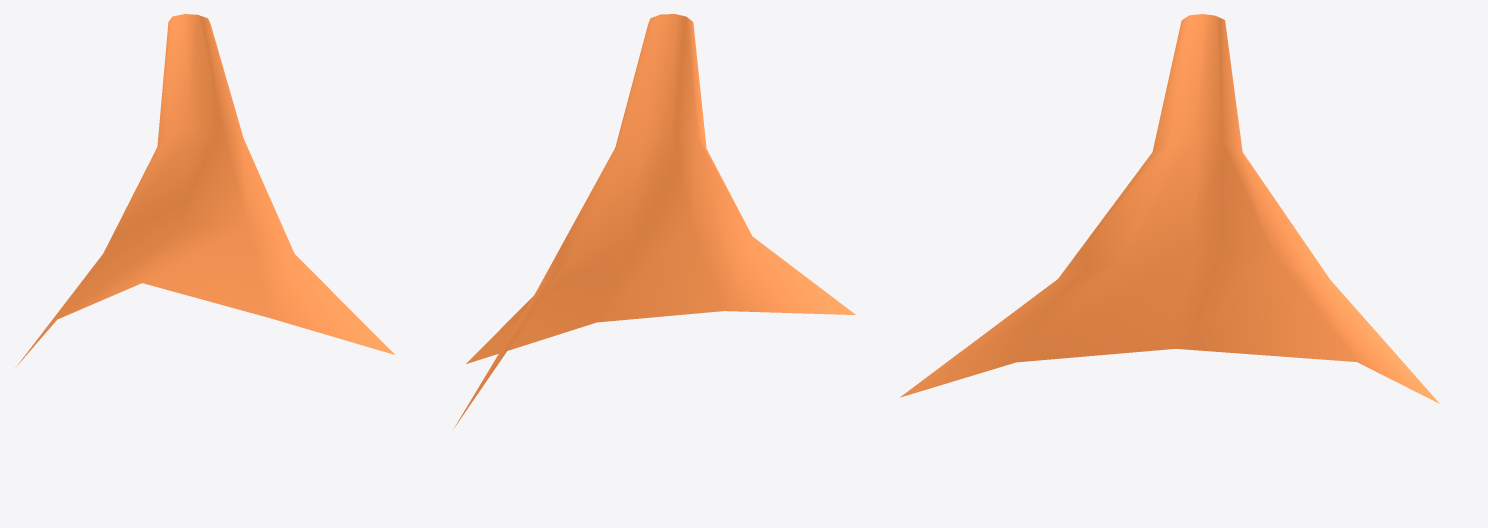
The model's file is prop-volcano-05.glb.
3 views of the same model, side by side, from view 1: azimuth 30°, elevation 25°; view 2: azimuth 150°, elevation 25°; view 3: azimuth 270°, elevation 25° (orthographic). The views are drawn at different scales.
Visible parts, largest first — view 1: volcano; view 2: volcano; view 3: volcano.
Part boxes in pixels (x1,y1,x2,y2): volcano: (15, 14, 394, 367); volcano: (453, 14, 855, 429); volcano: (900, 14, 1439, 403).
Bounding box in the file's own units: 0.9086 × 1 × 1.34.
